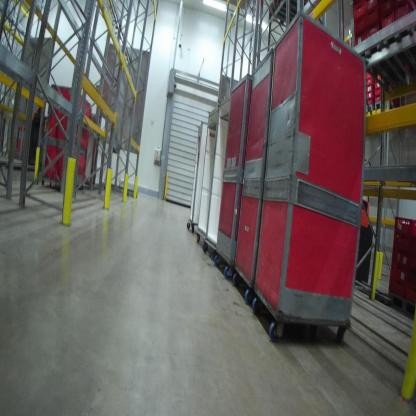pallet: (359, 42, 400, 95), (384, 23, 415, 91), (387, 293, 415, 324), (268, 5, 305, 28), (371, 101, 391, 119), (365, 102, 378, 118)
pallet_truck: (347, 171, 378, 287)
small_load_carrier: (387, 278, 404, 304), (391, 216, 411, 238), (392, 233, 410, 257), (395, 2, 410, 26), (380, 7, 394, 32), (401, 282, 416, 305), (366, 21, 380, 45), (388, 263, 405, 282), (404, 265, 416, 291), (353, 28, 367, 50), (355, 14, 367, 39), (405, 242, 415, 271), (392, 248, 407, 267), (365, 7, 378, 27), (352, 3, 366, 17), (408, 213, 415, 240)
